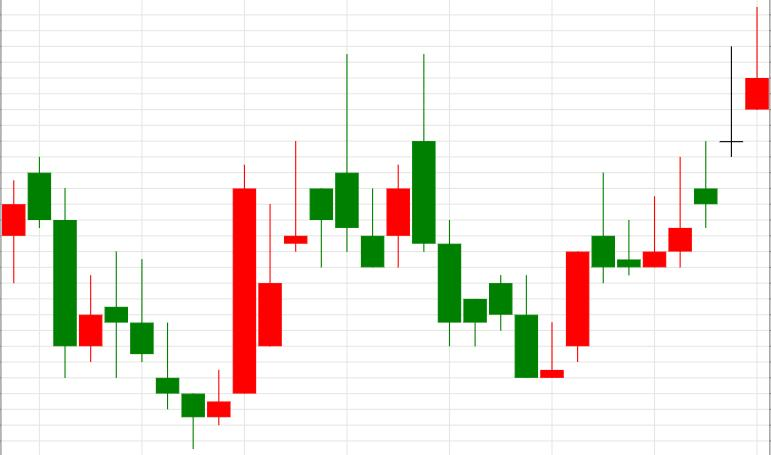hanging_man_fall: (207, 141, 333, 427)
shooting_star_fall: (540, 7, 768, 379)
